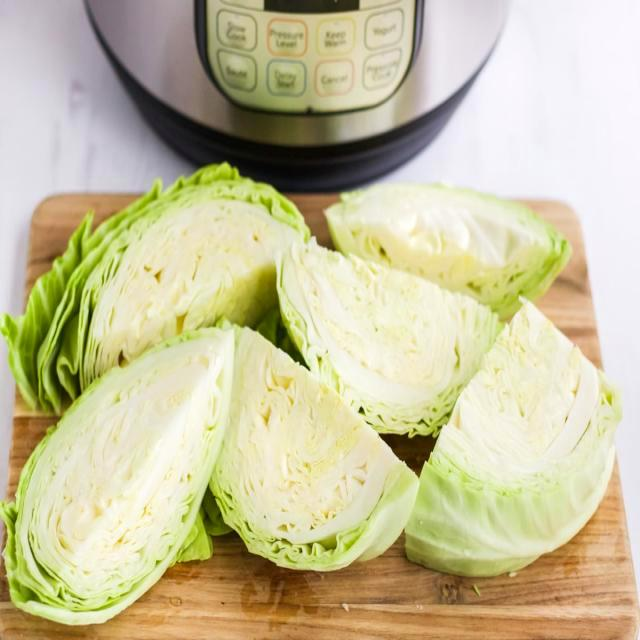cabbage: (0, 158, 315, 412), (6, 324, 241, 626), (404, 294, 636, 584), (215, 316, 422, 582), (272, 232, 514, 442), (322, 174, 574, 321)
